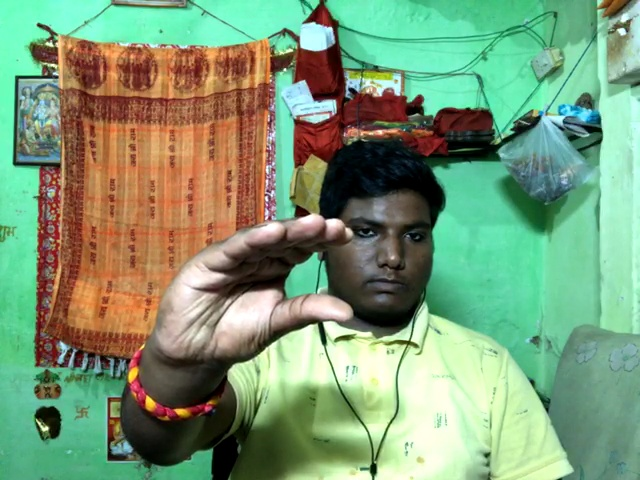No: (123, 202, 371, 390)
